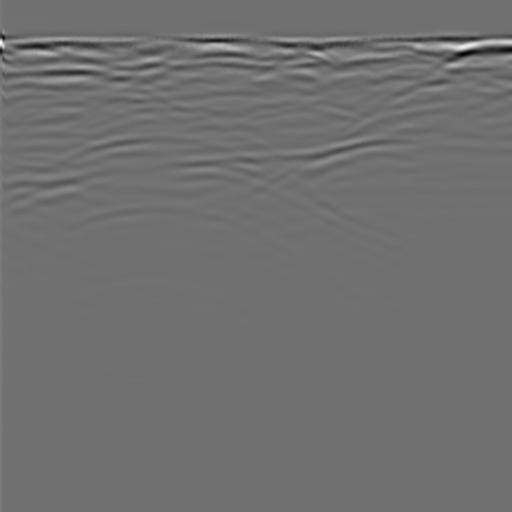hyperbola: (35, 120, 282, 244)
